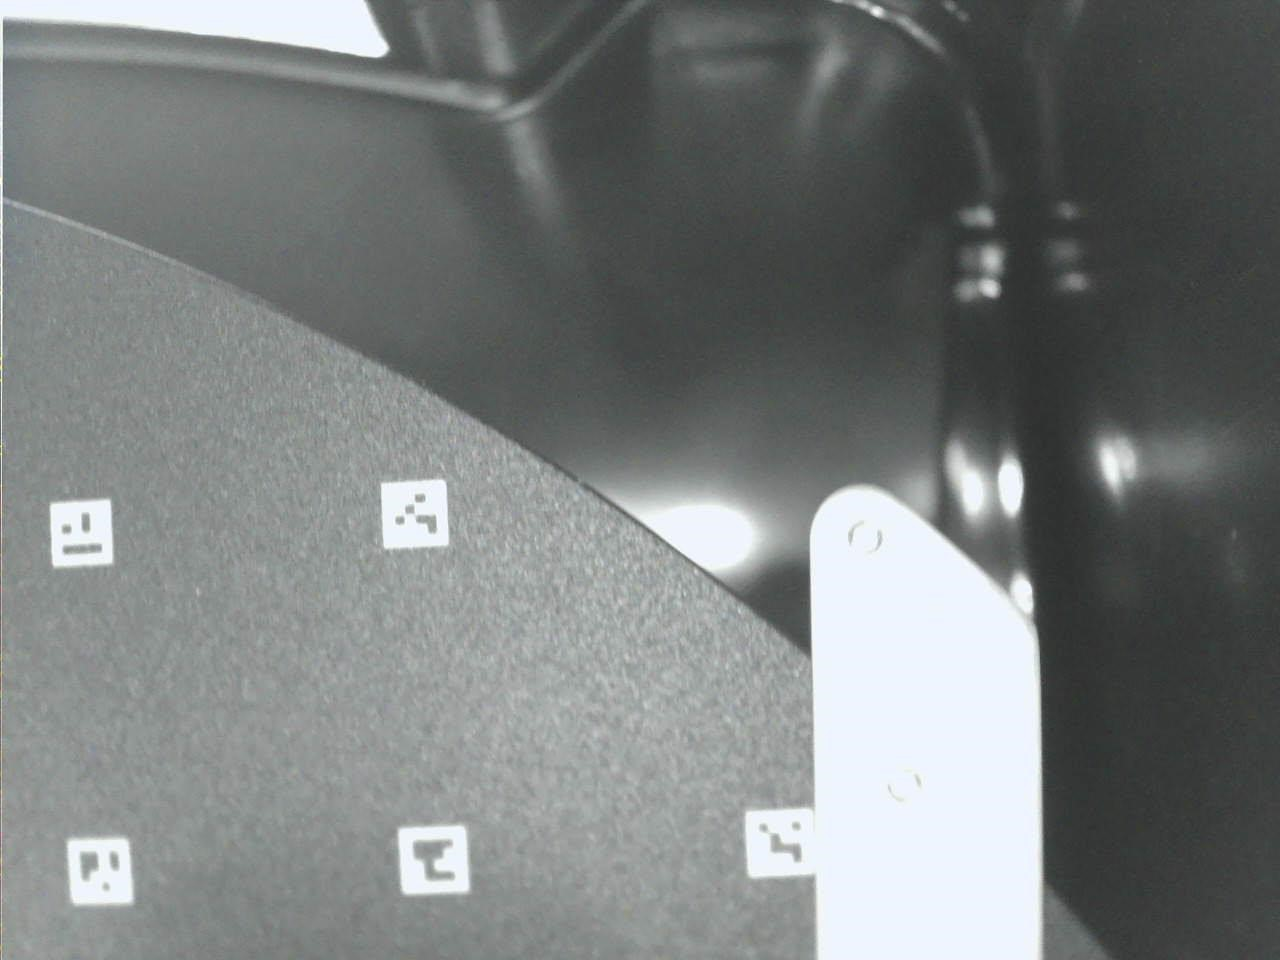forktip: (795, 460, 1058, 960)
